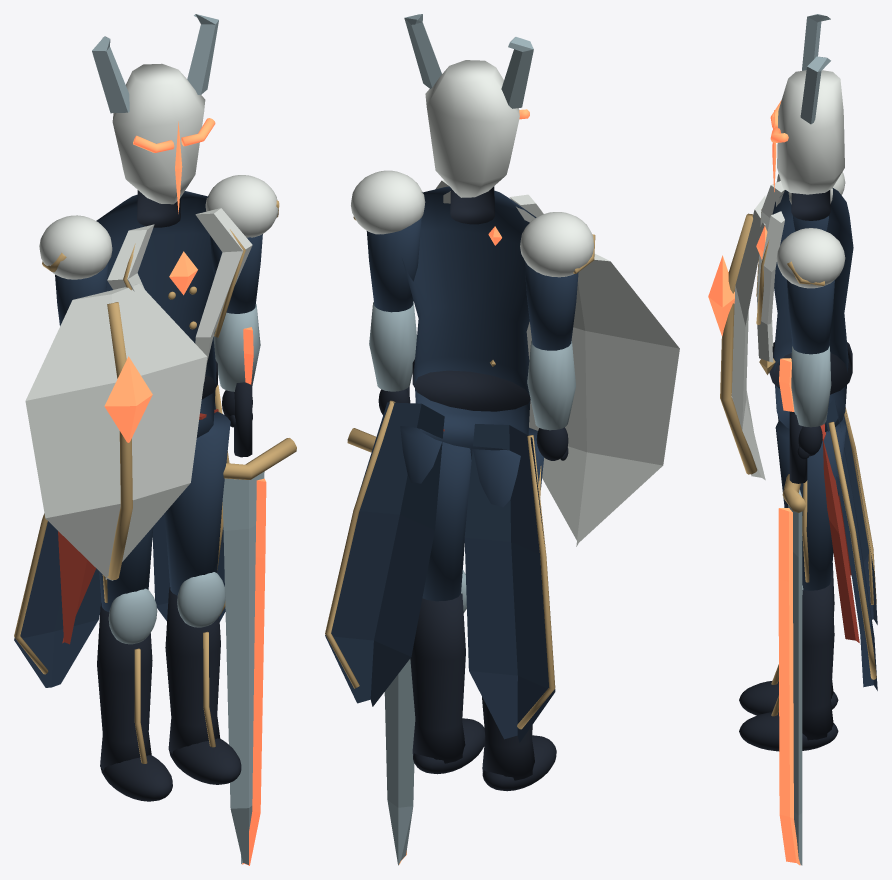
Rendered from shield.glb.
3 renders of one model, left to right at view 1: azimuth 30°, elevation 25°; view 2: azimuth 150°, elevation 25°; view 3: azimuth 270°, elevation 25°, orthographic. The views are drawn at different scales.
Parts seen in each view (by area): view 1: kite shield, crossguard, belt clasp, crown horn, boot gold rail.001, boot gold rail, coat lining, fitted trousers.001, pauldron.001, shoulder edge.001, finger.005, fitted trousers (+1 smaller); view 2: belt clasp, kite shield, coat lining.001, coat lining, crown horn, boot gold rail.001, pauldron.001, shoulder edge.001, fitted trousers.001, crossguard, finger.001, finger.005 (+2 smaller); view 3: belt clasp, crossguard, crown horn, kite shield, boot gold rail.001, coat lining.001, shoulder edge.001, fitted trousers.001, finger.005, coat lining, boot gold rail, pauldron.001.
Part boxes in pixels (x1,y1,x2,y2): kite shield: [25, 284, 207, 580]; crossguard: [222, 380, 296, 865]; belt clasp: [96, 190, 252, 437]; crown horn: [92, 14, 218, 213]; boot gold rail.001: [165, 572, 241, 784]; boot gold rail: [97, 588, 172, 801]; coat lining: [14, 513, 101, 687]; fitted trousers.001: [164, 411, 230, 595]; pauldron.001: [39, 215, 112, 325]; shoulder edge.001: [205, 175, 279, 313]; finger.005: [213, 304, 260, 427]; fitted trousers: [99, 527, 153, 611]; belt clasp: [402, 180, 543, 450]; kite shield: [526, 254, 679, 546]; coat lining.001: [325, 400, 444, 706]; coat lining: [464, 424, 555, 742]; crown horn: [404, 14, 533, 197]; boot gold rail.001: [410, 569, 485, 774]; pauldron.001: [520, 212, 595, 350]; shoulder edge.001: [351, 170, 425, 312]; fitted trousers.001: [400, 426, 471, 601]; crossguard: [347, 386, 415, 865]; finger.001: [527, 341, 575, 460]; finger.005: [369, 302, 416, 414]; belt clasp: [756, 181, 853, 431]; crossguard: [778, 411, 807, 865]; crown horn: [770, 14, 844, 194]; kite shield: [708, 195, 765, 480]; boot gold rail.001: [739, 579, 838, 751]; coat lining.001: [820, 399, 877, 690]; shoulder edge.001: [776, 228, 845, 354]; fitted trousers.001: [775, 420, 846, 590]; finger.005: [779, 346, 831, 459]; coat lining: [838, 407, 877, 624]; boot gold rail: [739, 563, 838, 715]; pauldron.001: [776, 172, 845, 231].
Bounding box in the file's own units: 0.9786 × 2.68 × 0.518.
